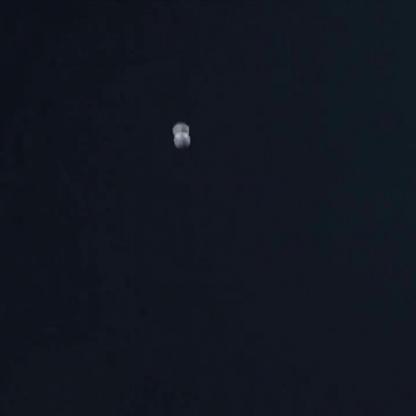ball: (168, 130, 192, 157), (169, 115, 198, 134)
